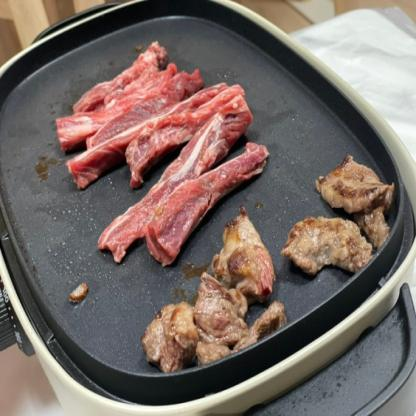Carne: (211, 221, 280, 296), (316, 158, 404, 215), (139, 309, 212, 372), (193, 276, 260, 344), (286, 224, 368, 271)
